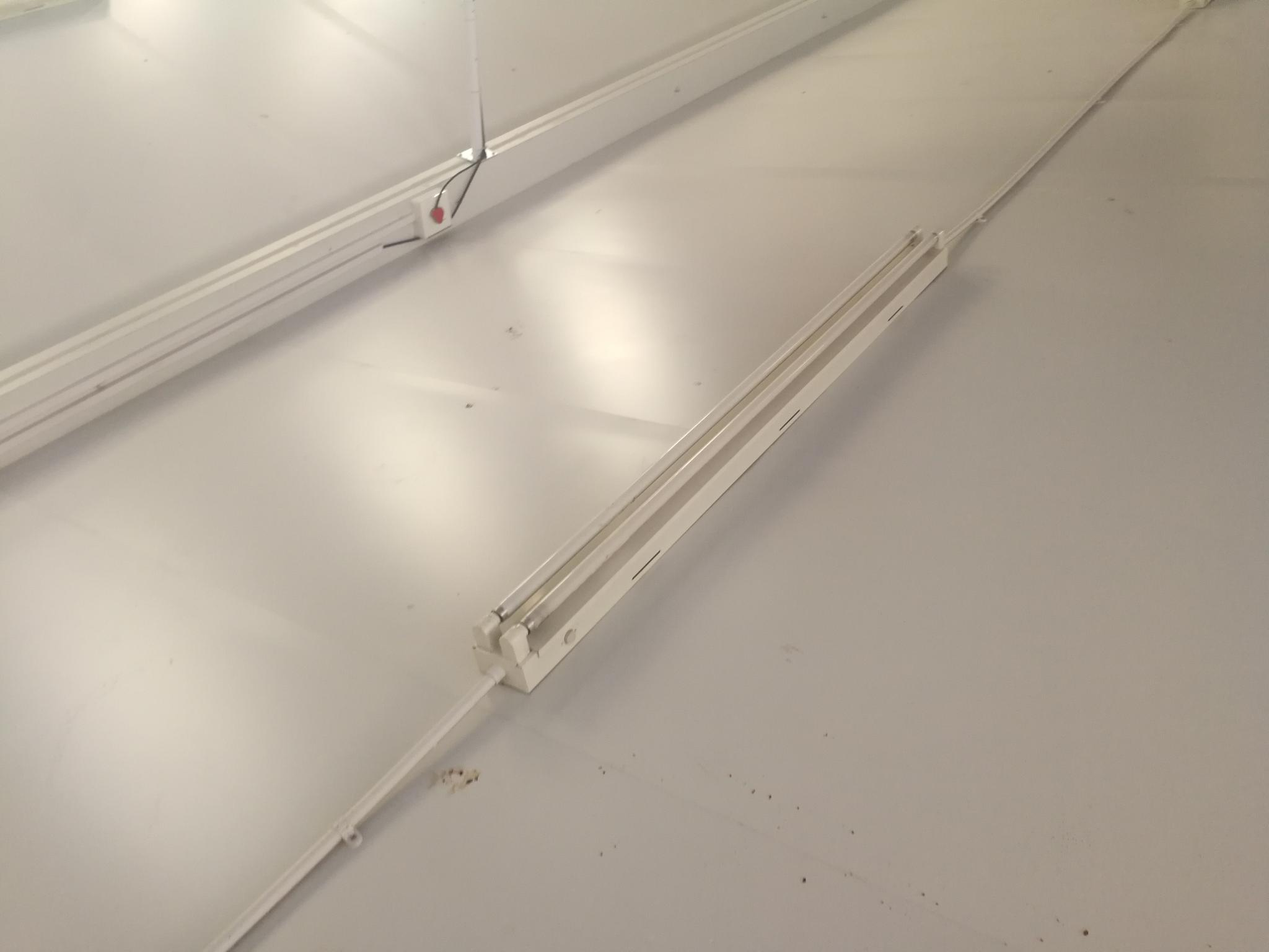light: (466, 214, 964, 696)
